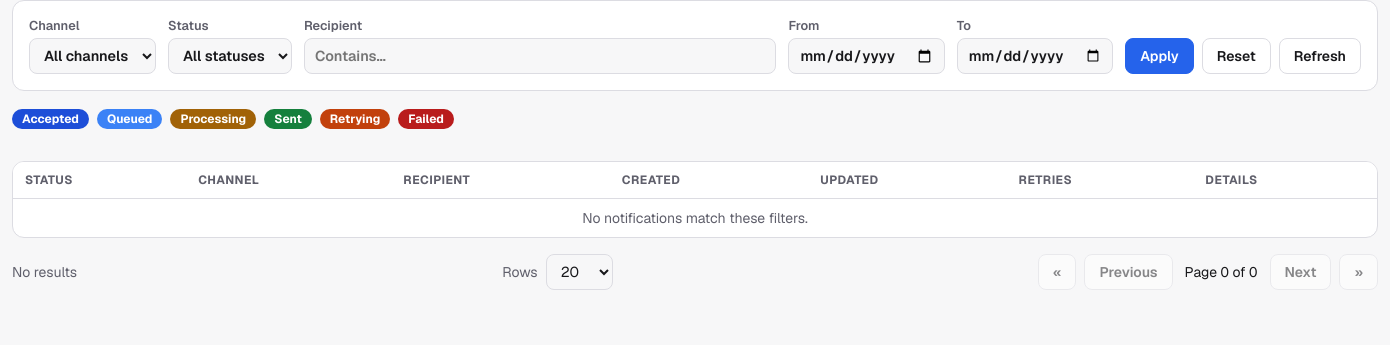
Scenario: NotificationLog › rejects a From date after the To date
Expected: the text "No notifications match these filters." is shown, [13,198,1377,237]
Step 1. Type "2026-09-30" into the date field labelled "From" → x=867, y=56, box [788,38,945,74]
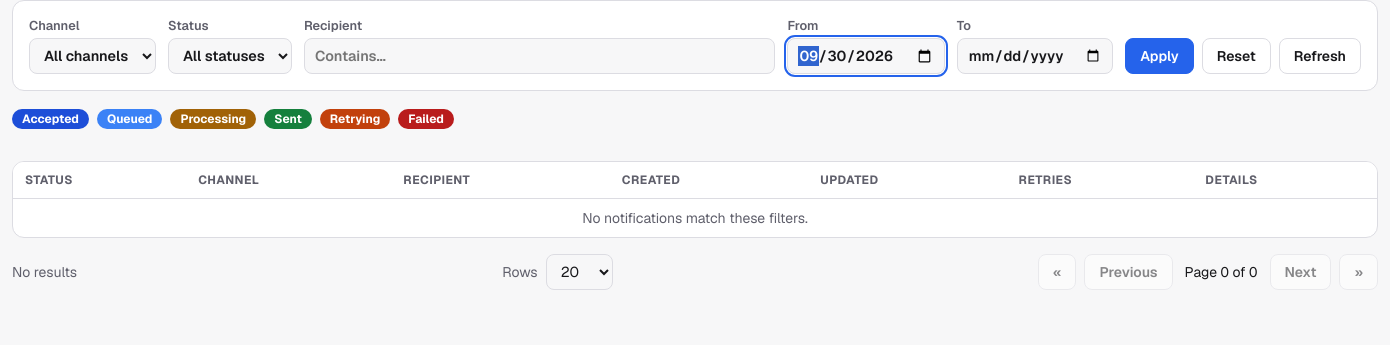
Step 2. Type "2026-09-01" into the date field labelled "To" → x=1035, y=56, box [957,38,1113,74]
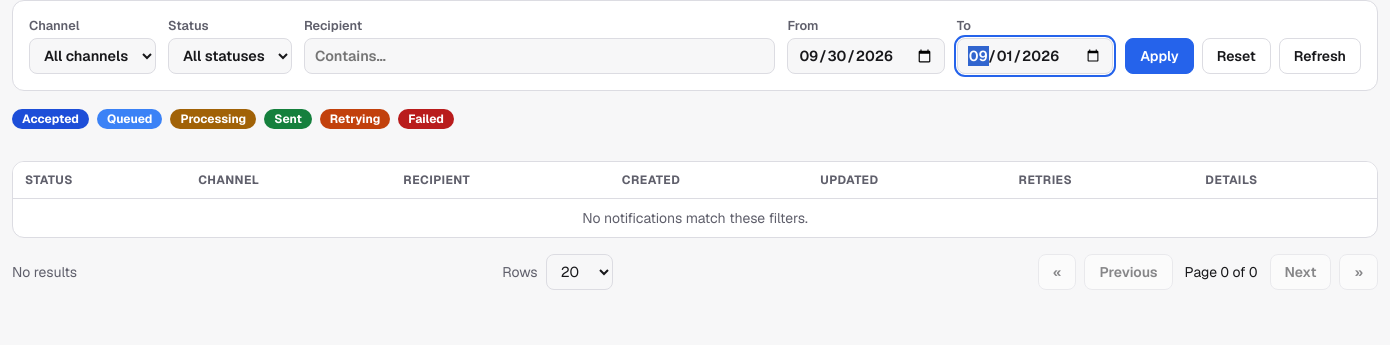
Step 3. Click the button "Apply" → x=1159, y=56, box [1125,38,1194,74]
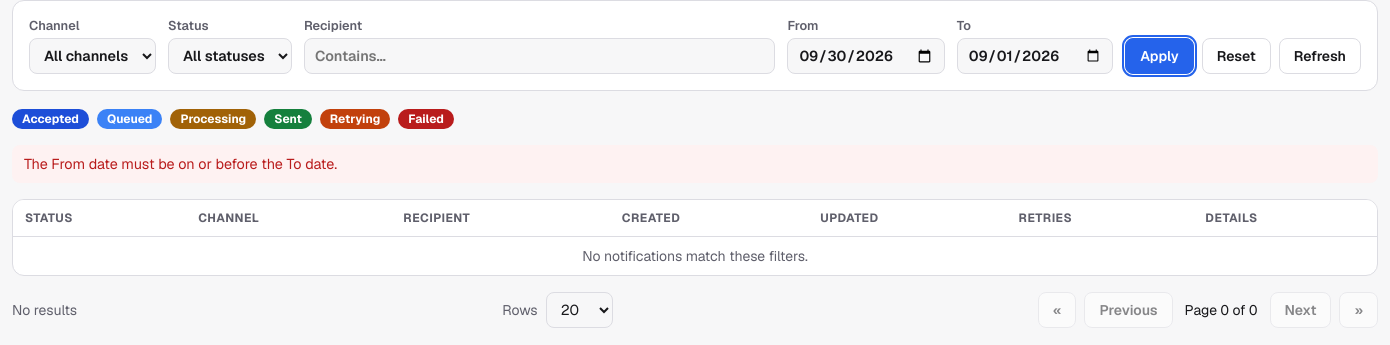
Result: the message reads "The From date must be on or before the To date." at [24,155,337,173]
